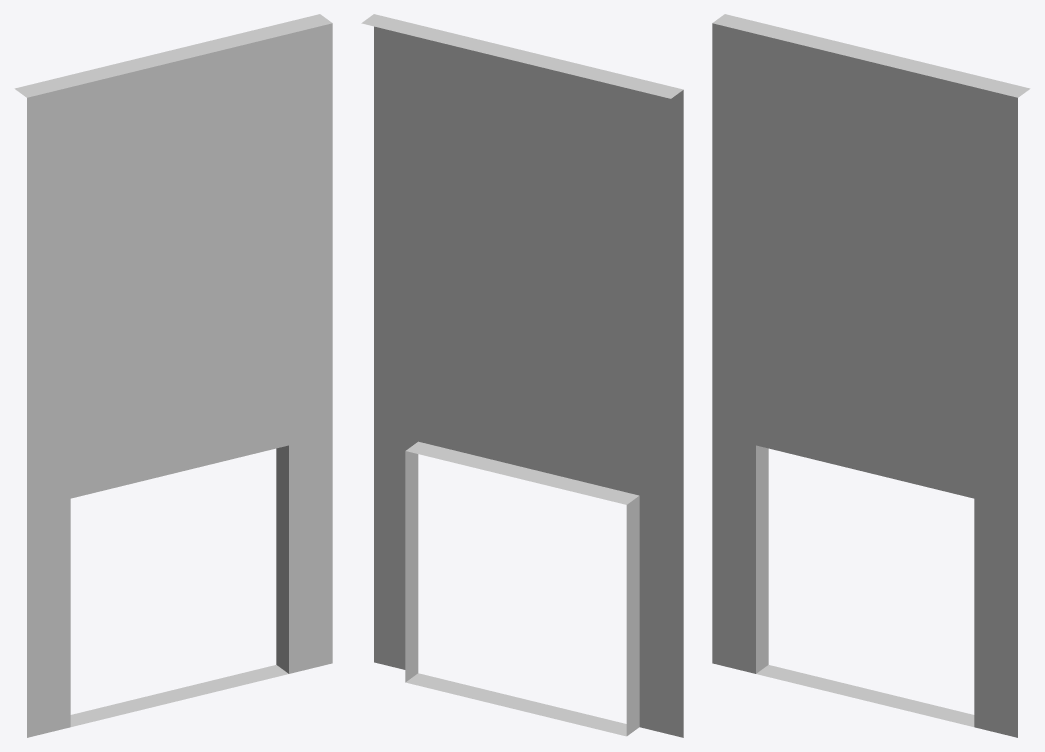
File: M_WallDoor350x700DWhite80.fbx
The picture shows the model from 3 angles, left to right: view 1: azimuth 30°, elevation 25°; view 2: azimuth 150°, elevation 25°; view 3: azimuth 330°, elevation 25°; orthographic projection.
Parts seen in each view (by area): view 1: M_WallDoor350x700DWhite80; view 2: M_WallDoor350x700DWhite80; view 3: M_WallDoor350x700DWhite80.
Part boxes in pixels (left/top/right/bottom): M_WallDoor350x700DWhite80: left=14, top=14, right=332, bottom=737; M_WallDoor350x700DWhite80: left=361, top=14, right=683, bottom=737; M_WallDoor350x700DWhite80: left=712, top=14, right=1030, bottom=737.
Bounding box in the file's own units: 350 × 25 × 700.
